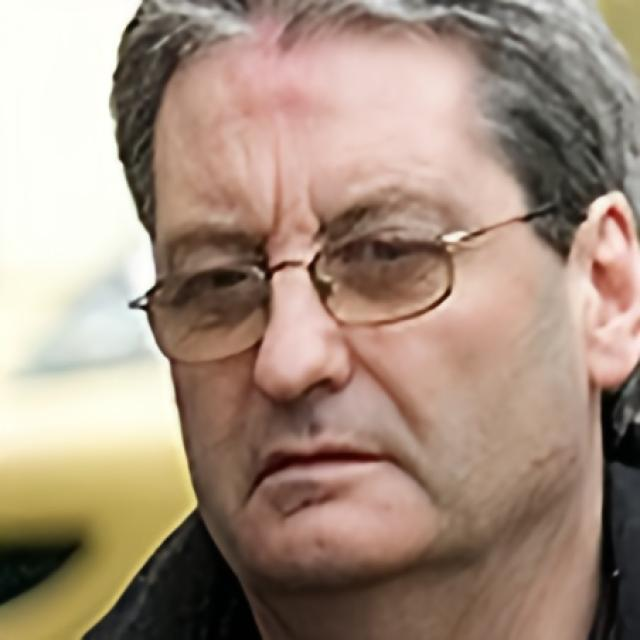anger: (144, 38, 578, 588)
